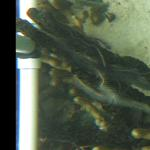alive: (18, 4, 147, 148)
